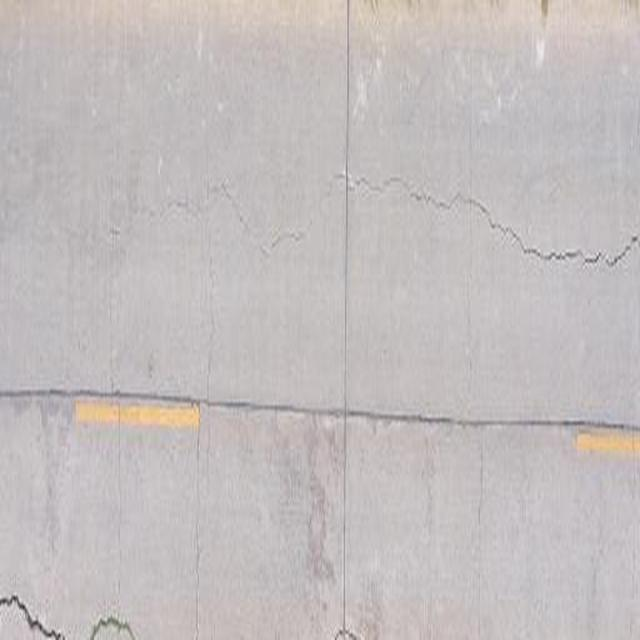Crack: (436, 181, 640, 287), (2, 550, 168, 640)
